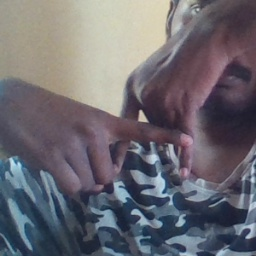H: (98, 79, 201, 184)
